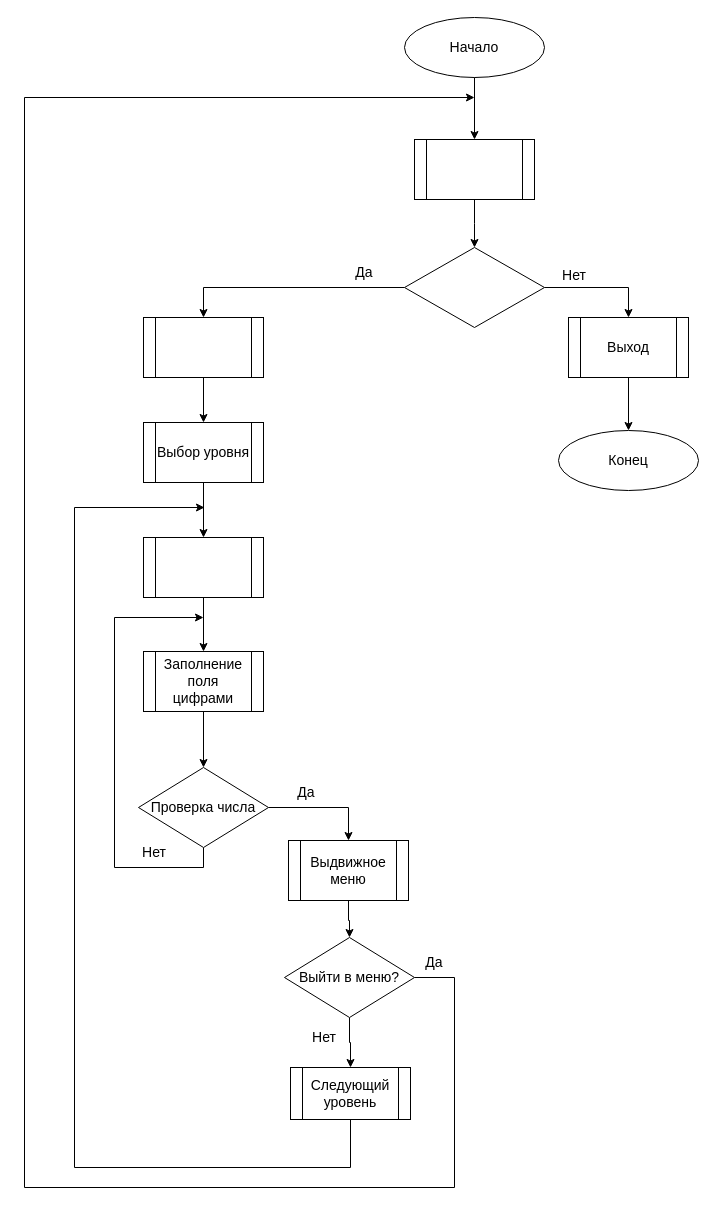
Some shapes in this 716 by 1213 pixel diagram are drawn without their labels. Each missing label, with the box of its shape:
Играть: (142, 316, 264, 378)
Остаться в игре?: (404, 246, 544, 328)
Открытие главного меню: (414, 138, 534, 200)
Отрисовка поля: (142, 536, 264, 598)
